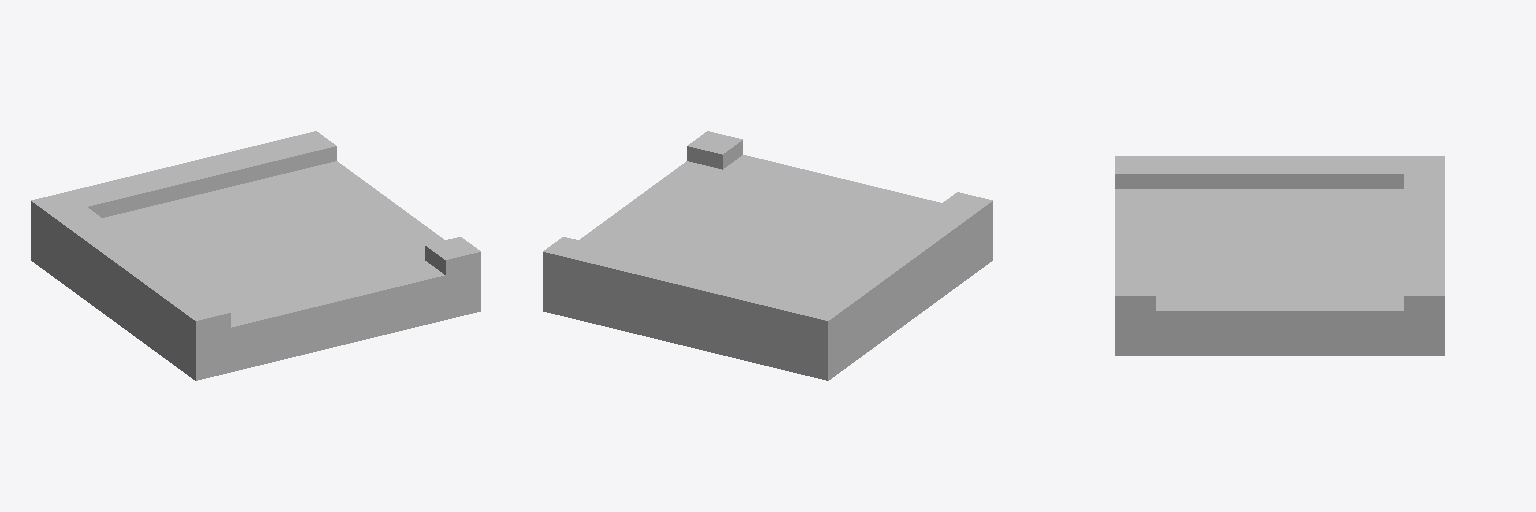
File: CornerRD.obj
3 renders of one model, left to right at view 1: azimuth 30°, elevation 25°; view 2: azimuth 150°, elevation 25°; view 3: azimuth 270°, elevation 25°, orthographic.
Visible parts, largest first — view 1: CornerRD; view 2: CornerRD; view 3: CornerRD.
Part boxes in pixels (bbox=[...]): CornerRD: bbox=[31, 131, 480, 380]; CornerRD: bbox=[543, 131, 992, 380]; CornerRD: bbox=[1115, 156, 1444, 355].
Bounding box in the file's own units: 1 × 0.2 × 1.